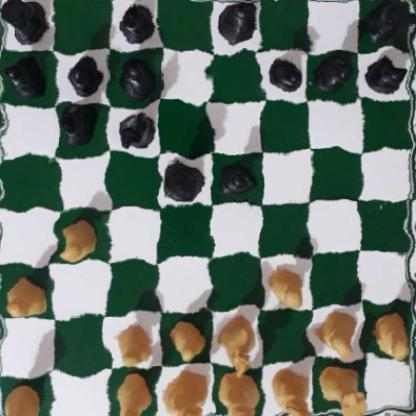black-bishop: (118, 0, 161, 42), (55, 104, 102, 142)
black-king: (218, 0, 259, 47)
black-knight: (118, 102, 156, 147)
black-pawn: (5, 57, 47, 98), (215, 157, 256, 198), (116, 55, 156, 95), (66, 52, 100, 96), (367, 57, 406, 94), (311, 55, 350, 89), (269, 54, 300, 92)
black-queen: (159, 159, 205, 203)
black-rook: (0, 0, 51, 44), (364, 0, 409, 44)
white-bishop: (269, 362, 311, 416), (111, 371, 155, 416)
white-king: (211, 365, 260, 416)
white-knight: (218, 312, 257, 382)
white-pawn: (111, 322, 157, 369), (265, 262, 306, 310), (318, 309, 358, 358), (6, 278, 50, 321), (50, 220, 96, 260), (371, 310, 409, 358), (168, 319, 202, 362)
white-queen: (164, 367, 208, 416)
white-rook: (319, 362, 370, 416), (0, 378, 41, 416)
